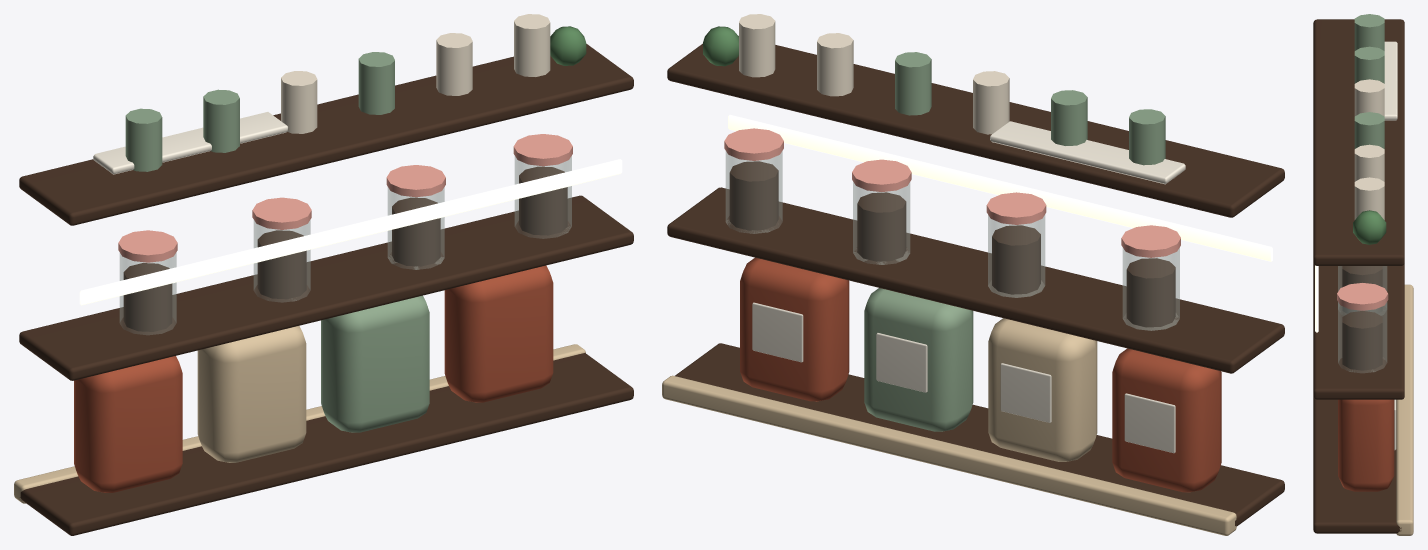
The model's file is coffee_bag_shelf.glb.
3 renders of one model, left to right at view 1: azimuth 30°, elevation 25°; view 2: azimuth 150°, elevation 25°; view 3: azimuth 270°, elevation 25°, orthographic. The views are drawn at different scales.
Parts seen in each view (by area): view 1: coffee_bag_shelf; view 2: coffee_bag_shelf; view 3: coffee_bag_shelf.
Part boxes in pixels (bbox=[...]): coffee_bag_shelf: bbox=[14, 14, 633, 535]; coffee_bag_shelf: bbox=[662, 14, 1284, 535]; coffee_bag_shelf: bbox=[1313, 14, 1413, 535].
Bounding box in the file's own units: 1.6 × 1.01 × 0.285.
